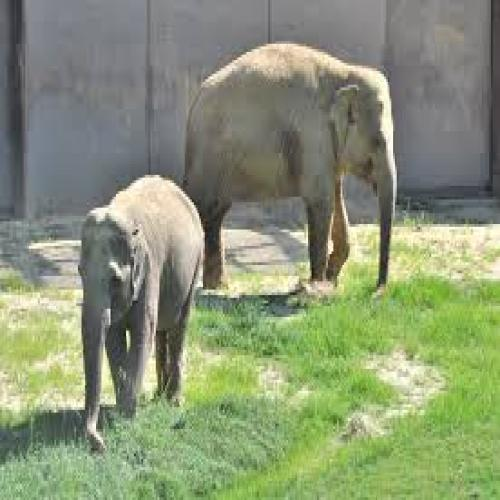asian_elephant-endangered: (184, 45, 398, 287), (77, 174, 206, 449)
